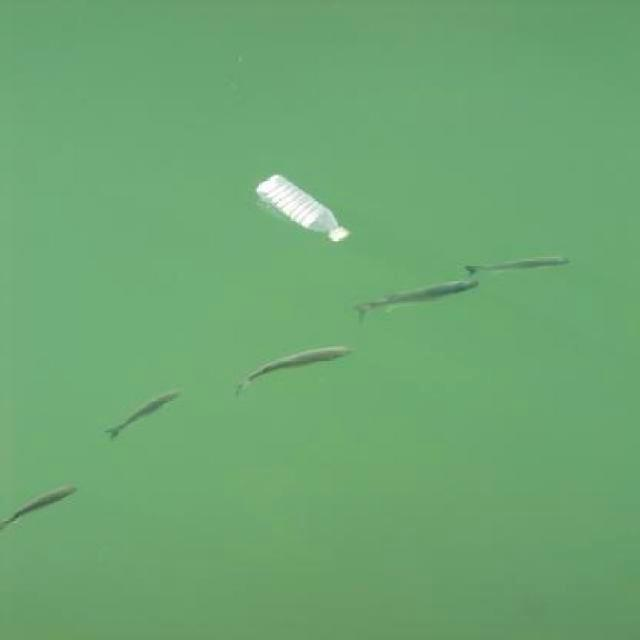Plastic: (252, 164, 358, 251)
